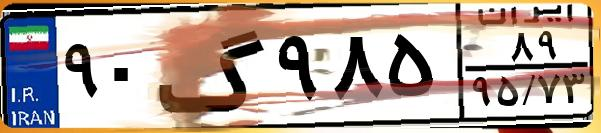0: (110, 28, 156, 98)
3: (560, 70, 590, 125)
5: (385, 28, 445, 110), (495, 70, 520, 125)
7: (535, 70, 560, 125)
8: (330, 28, 385, 110), (508, 27, 537, 80)
9: (270, 28, 330, 110), (57, 26, 110, 100), (537, 27, 568, 80), (470, 70, 495, 125)
گ: (156, 12, 270, 120)
